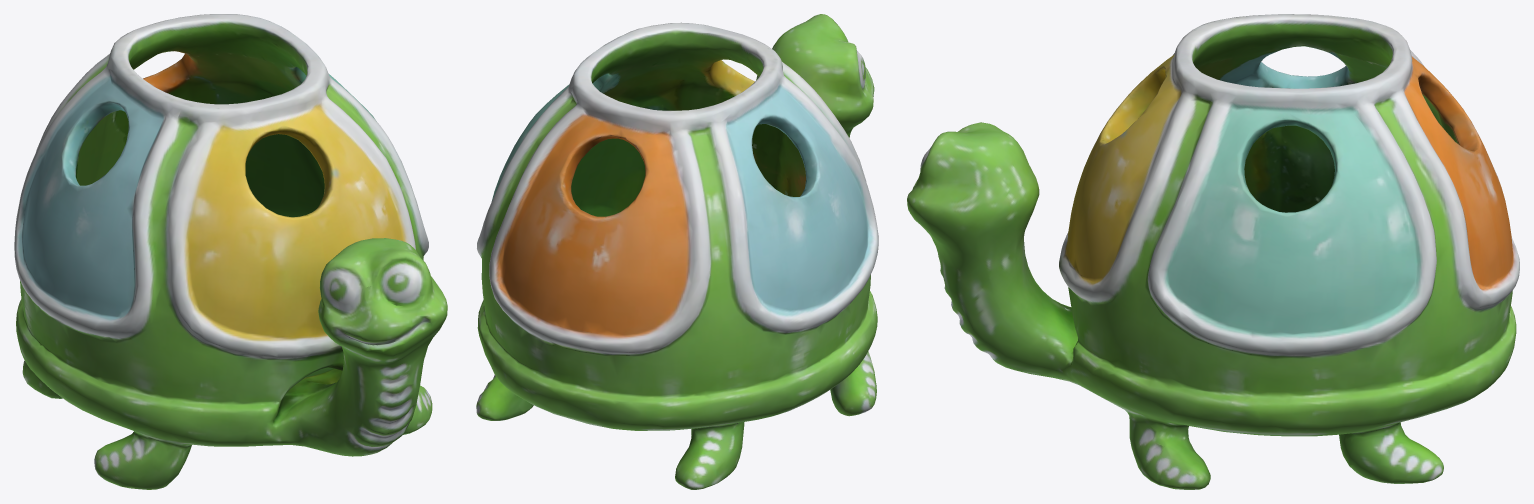
File: Circo_Fish_Toothbrush_Holder_14995988.glb
3 views of the same model, side by side, from view 1: azimuth 30°, elevation 25°; view 2: azimuth 150°, elevation 25°; view 3: azimuth 270°, elevation 25° (orthographic). The views are drawn at different scales.
Parts seen in each view (by area): view 1: Circo_Fish_Toothbrush_Holder_14995988; view 2: Circo_Fish_Toothbrush_Holder_14995988; view 3: Circo_Fish_Toothbrush_Holder_14995988.
Part boxes in pixels (x1,y1,x2,y2): Circo_Fish_Toothbrush_Holder_14995988: (14,14,447,489); Circo_Fish_Toothbrush_Holder_14995988: (476,14,878,489); Circo_Fish_Toothbrush_Holder_14995988: (907,14,1519,489).
Size of the model in its own units: 0.1058 by 0.1019 by 0.1547.
1 material, 1 textured.
